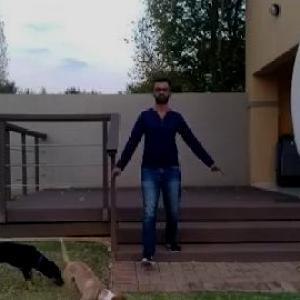land: (115, 84, 206, 254)
